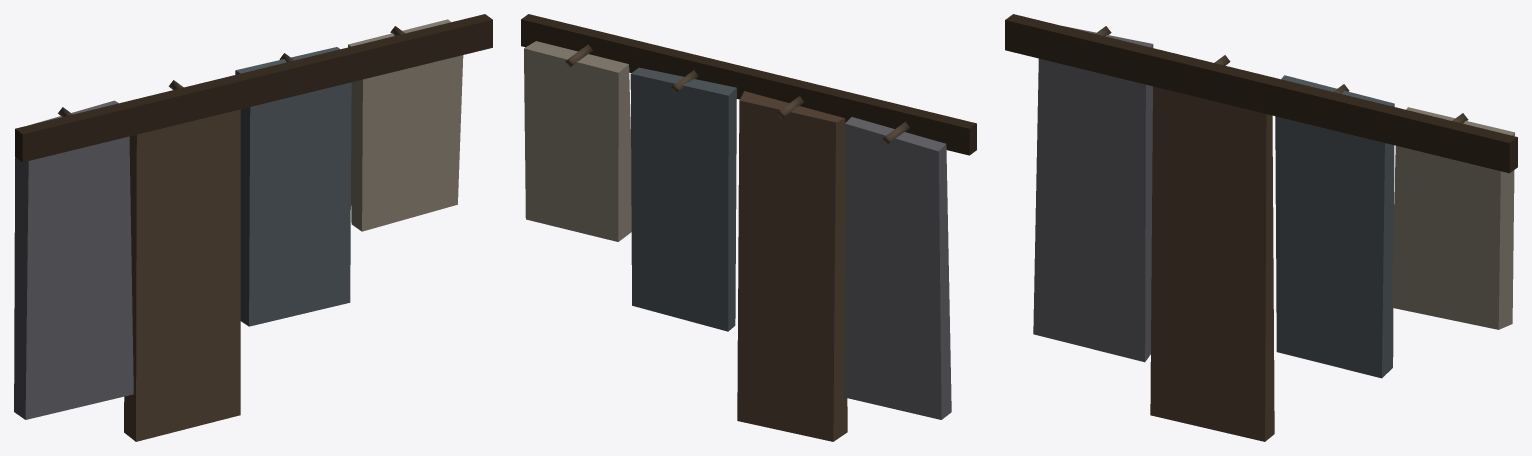
File: pegs_clothes.glb
3 views of the same model, side by side, from view 1: azimuth 30°, elevation 25°; view 2: azimuth 150°, elevation 25°; view 3: azimuth 330°, elevation 25° (orthographic). The views are drawn at different scales.
Parts seen in each view (by area): view 1: pegs_clothes; view 2: pegs_clothes; view 3: pegs_clothes.
Boxes of the visible parts, x1,y1,x2,y2 form: pegs_clothes: [14, 14, 492, 441]; pegs_clothes: [521, 14, 976, 441]; pegs_clothes: [1005, 14, 1517, 441].
Size of the model in its own units: 1.4 by 0.9926 by 0.14.
